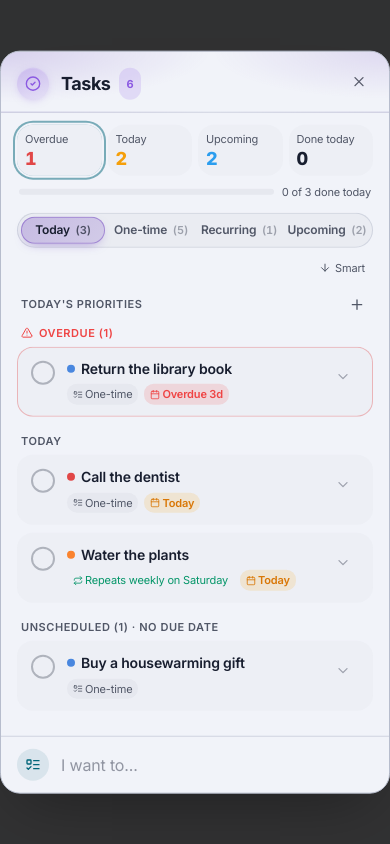
Scenario: TasksPopup — One-time vs Recurring › keeps the schedule off the One-time tab and the one-offs off Recurring
Click the tab with test id "task-tab-onetime" at (151, 230), box [109,216,193,244]
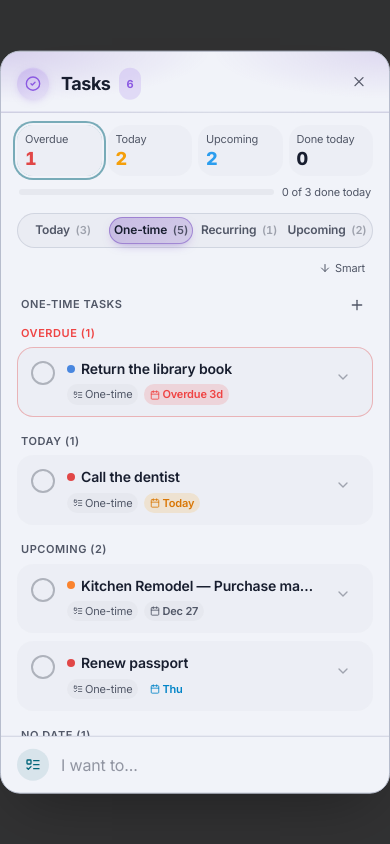
Now the element with test id "section-onetime-today" is shown, box [17,432,373,525]
Now the element with test id "task-card-t6" is gone
Click the tab with test id "task-tab-recurring" at (239, 230), box [197,216,281,244]
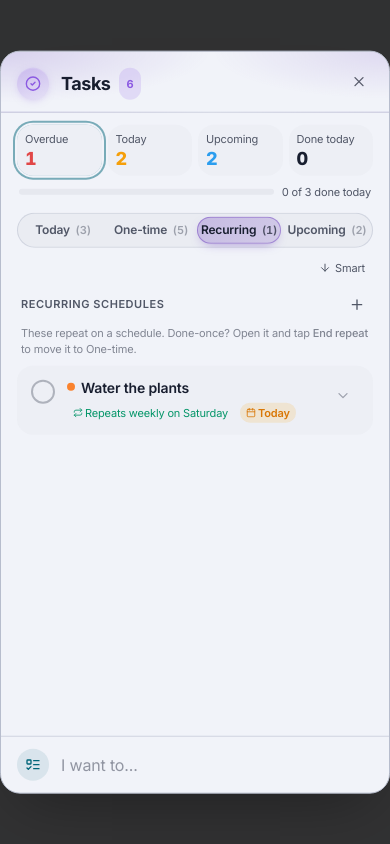
Now the element with test id "task-card-t6" is shown, box [17,365,373,435]
Now the element with test id "task-card-t3" is gone
Now the element with test id "recurring-tab-hint" shows "End repeat", box [313,325,368,339]
